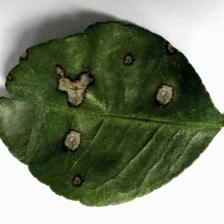canker: (4, 41, 177, 190)
